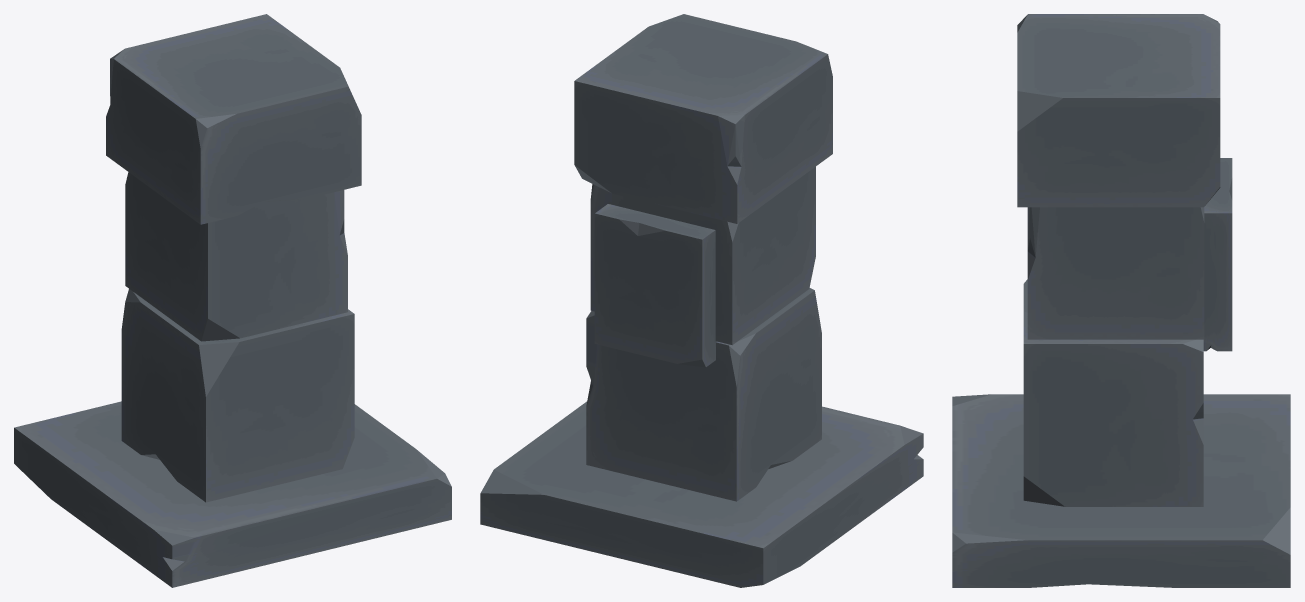
File: Pillar1B-001_02_07_1834.fbx
3 views of the same model, side by side, from view 1: azimuth 30°, elevation 25°; view 2: azimuth 150°, elevation 25°; view 3: azimuth 270°, elevation 25° (orthographic). The views are drawn at different scales.
Visible parts, largest first — view 1: 1B_Pillar; view 2: 1B_Pillar; view 3: 1B_Pillar.
Part boxes in pixels (x1,y1,x2,y2): 1B_Pillar: (14, 14, 451, 587); 1B_Pillar: (480, 14, 923, 587); 1B_Pillar: (952, 14, 1290, 587).
Bounding box in the file's own units: 1.88 × 2.76 × 1.84.
